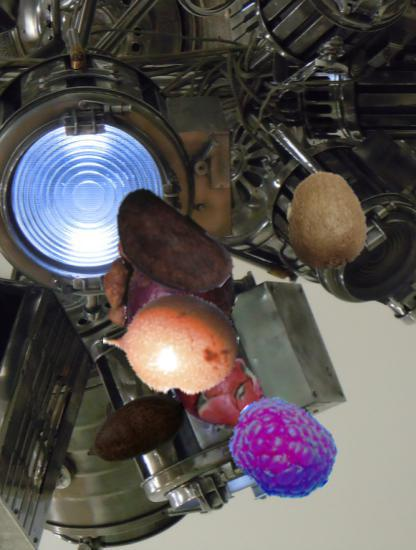Chestnut: (102, 182, 234, 314)
Granadilla: (103, 276, 239, 412)
Kiwi: (277, 170, 379, 272)
Mangostan: (100, 221, 236, 357)
Nut: (81, 376, 190, 485)
Pitahaya: (151, 318, 276, 443)
Raspberry: (227, 393, 338, 504)
